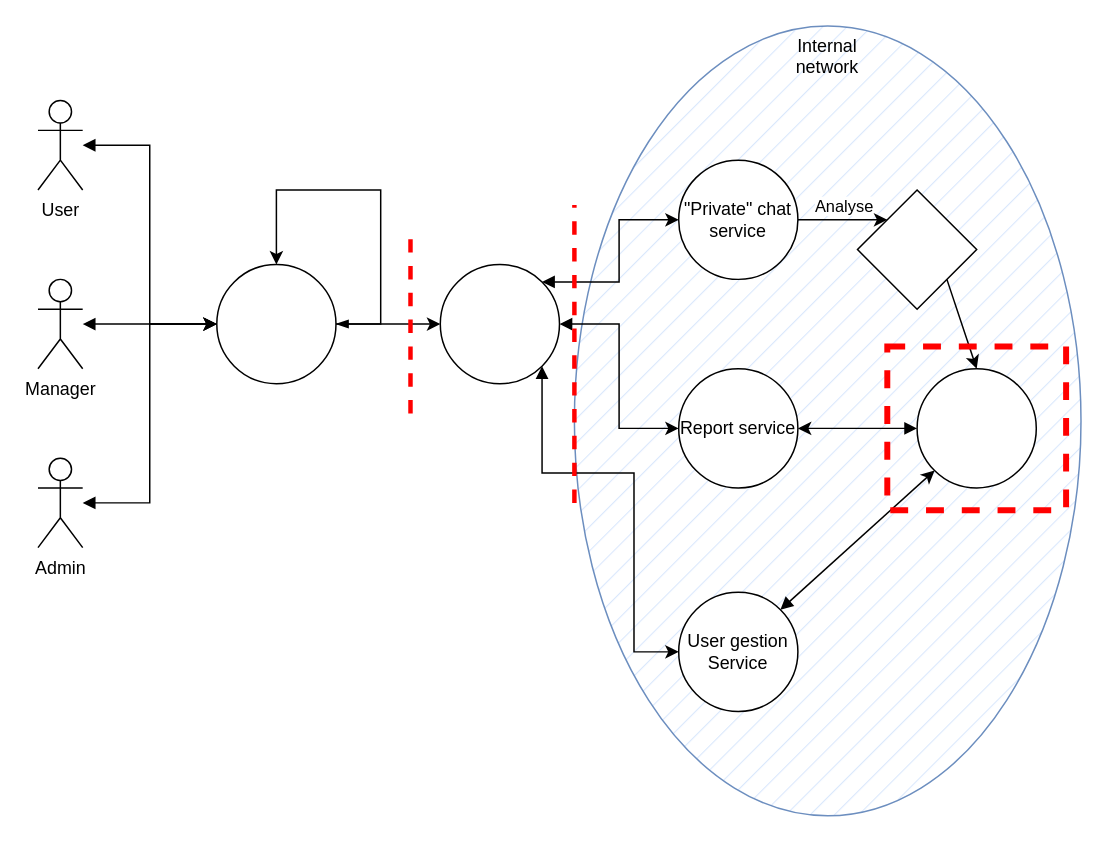
The diagram is 1107 pixels wide and 842 high, and some of its shapes have lost their labels. Each missing label, with the centre of its shape:
"App IOS" belongs at [499,323].
"Auth Service" belongs at [275,323].
"IA" belongs at [916,248].
"Postgres" belongs at [976,427].
